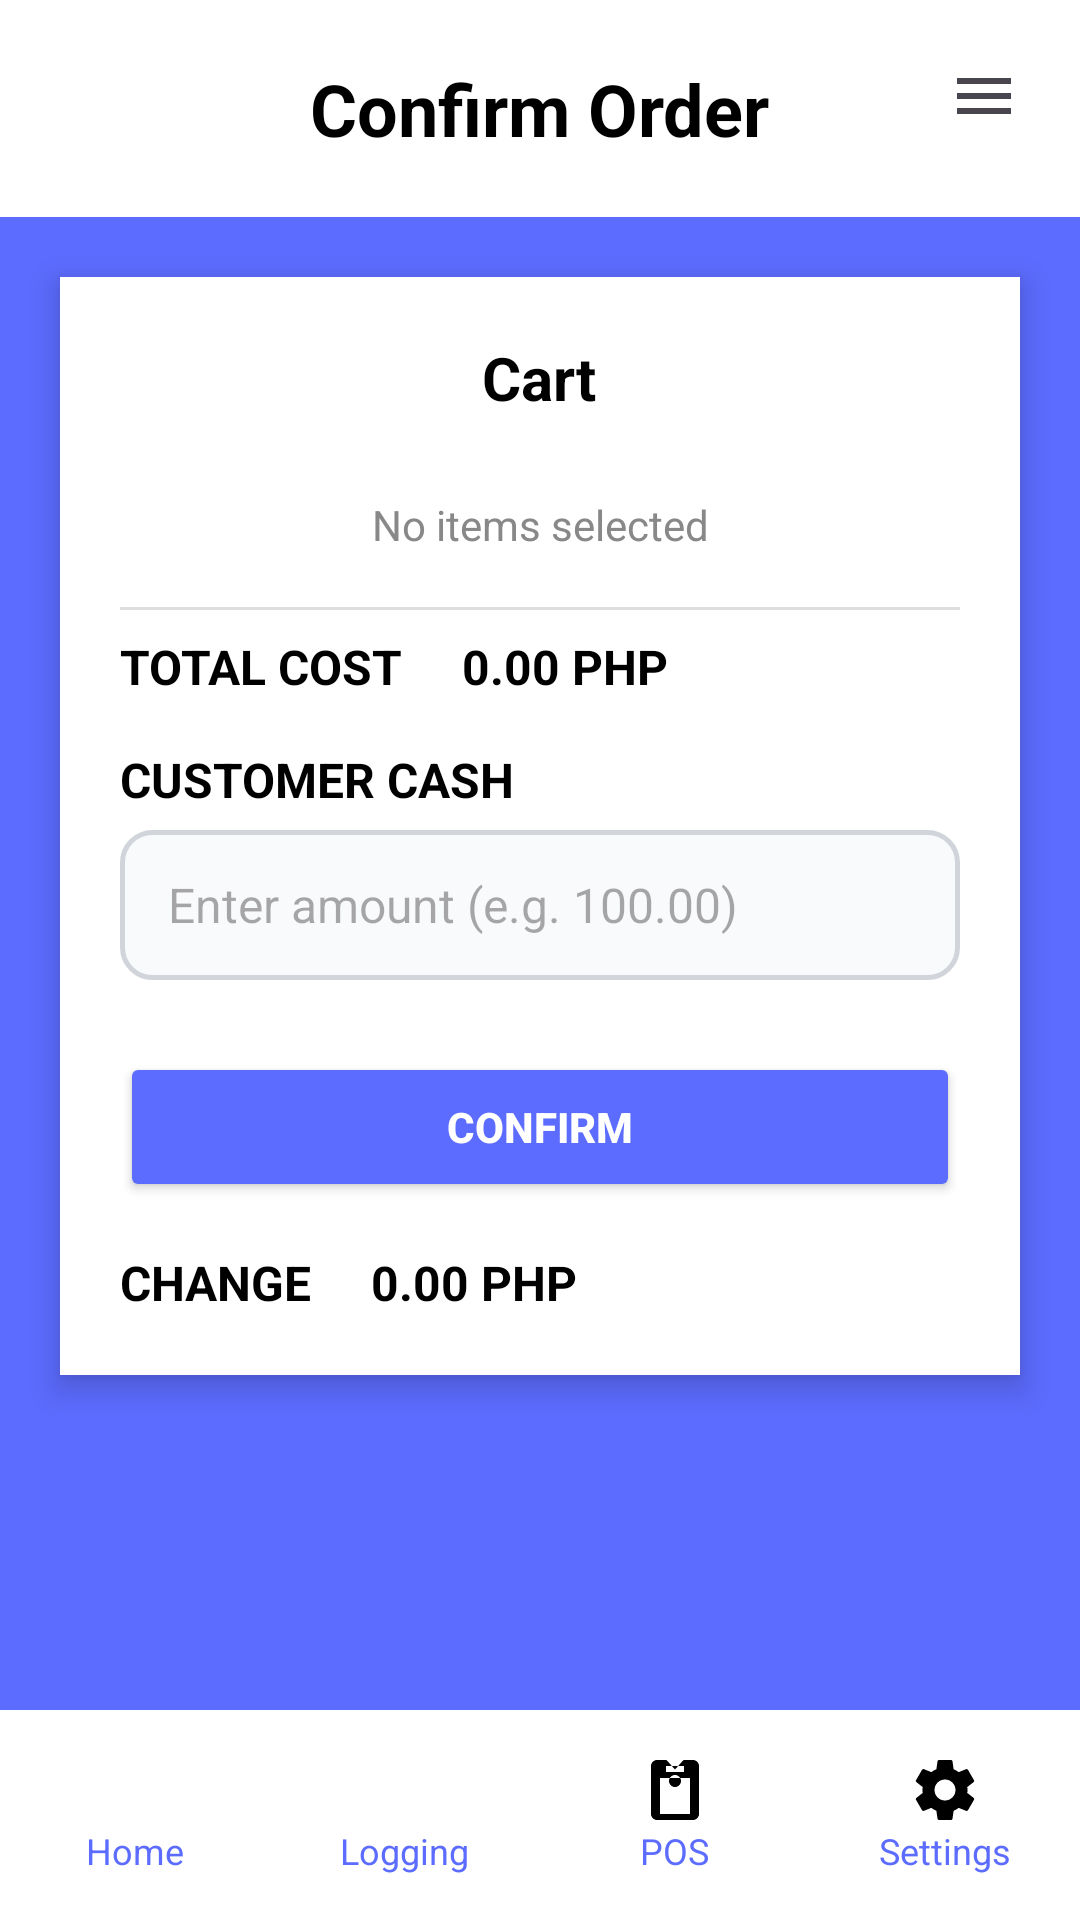

Screen size 1080 × 1920. Icon name, then its center in pixels as point (x, y):
Menu: point (984, 96)
